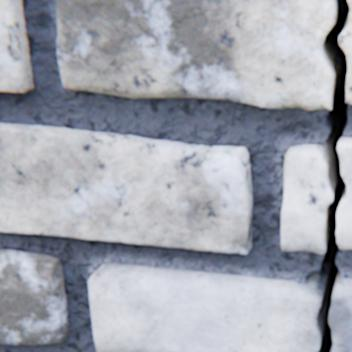brick: (0, 124, 252, 254), (0, 249, 70, 344), (0, 0, 34, 93)
broken_brick: (57, 0, 333, 111), (89, 264, 320, 351), (281, 146, 332, 254), (336, 138, 351, 249), (329, 278, 351, 351), (339, 13, 351, 104), (347, 0, 351, 10)
crack: (304, 0, 351, 351)
